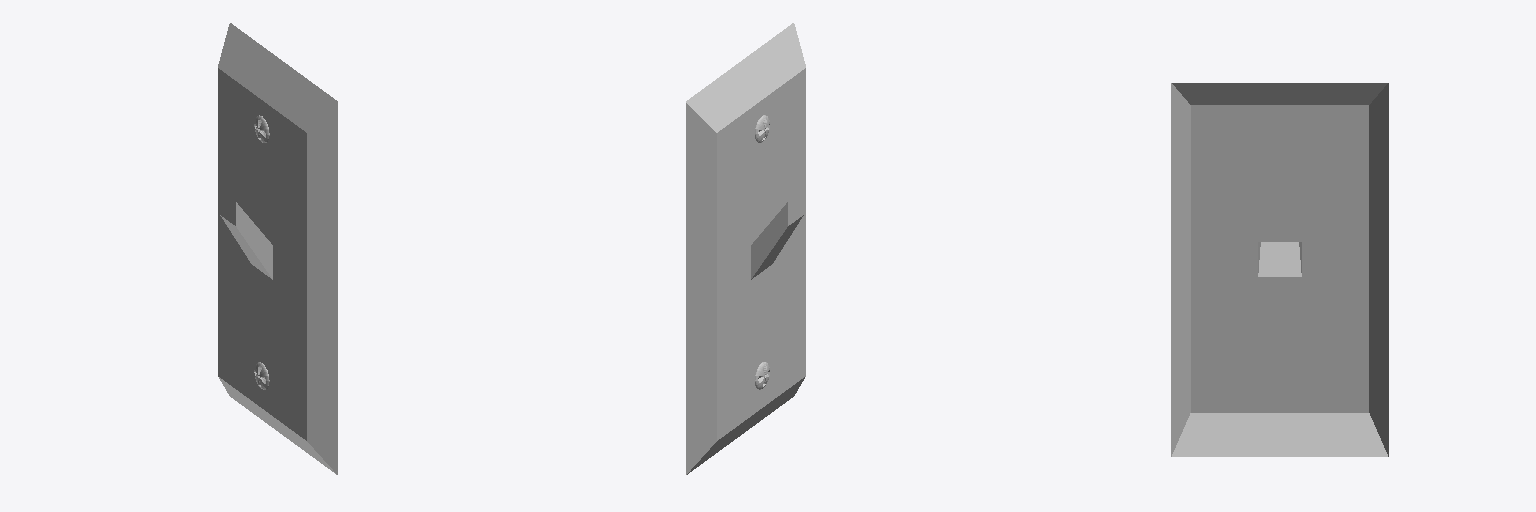
The model's file is LightSwitchTextures.obj.
3 renders of one model, left to right at view 1: azimuth 30°, elevation 25°; view 2: azimuth 150°, elevation 25°; view 3: azimuth 270°, elevation 25°, orthographic.
Parts seen in each view (by area): view 1: LightSwitch1; view 2: LightSwitch1; view 3: LightSwitch1.
Boxes of the visible parts, box(x1,y1,x2,y2) form: LightSwitch1: box(218, 23, 337, 474); LightSwitch1: box(686, 23, 805, 474); LightSwitch1: box(1171, 83, 1388, 456).
Bounding box in the file's own units: 0.1758 × 1.12 × 0.5875.